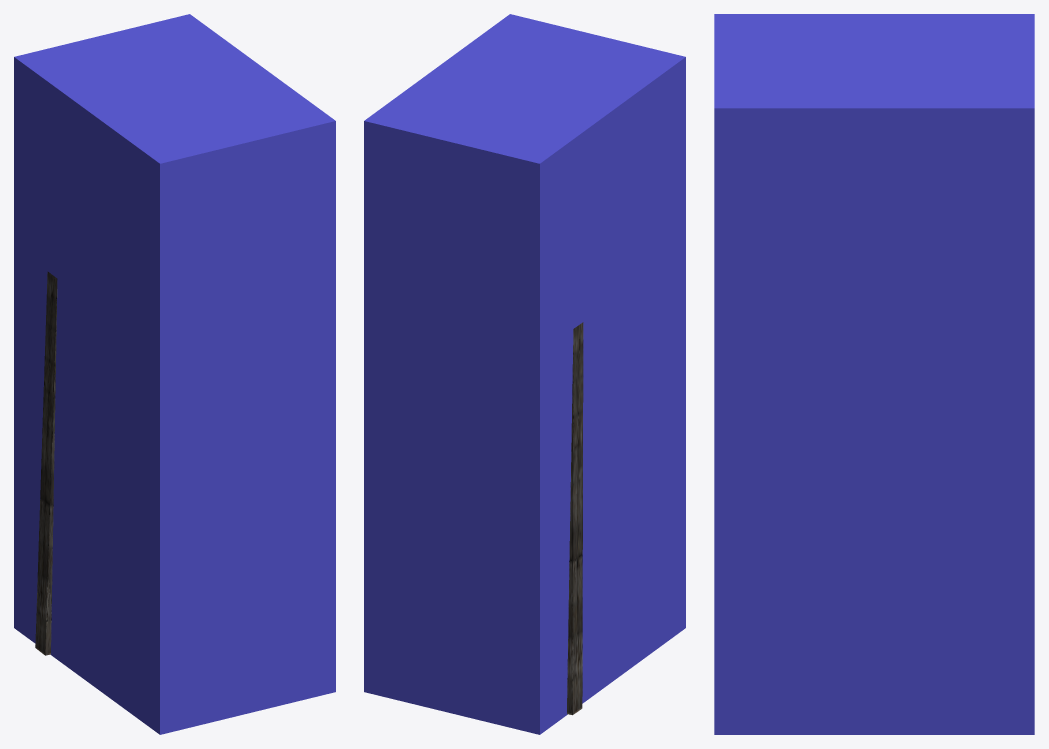
The model's file is pier_piece_1_unbroken.DAE.
The picture shows the model from 3 angles, left to right: view 1: azimuth 30°, elevation 25°; view 2: azimuth 150°, elevation 25°; view 3: azimuth 270°, elevation 25°; orthographic projection. The views are drawn at different scales.
Visible parts, largest first — view 1: bounds, colbox-17; view 2: bounds, colbox-17; view 3: bounds.
Boxes of the visible parts, bbox=[...] form: bounds: bbox=[14, 14, 335, 734]; colbox-17: bbox=[35, 271, 57, 655]; bounds: bbox=[364, 14, 685, 734]; colbox-17: bbox=[567, 322, 583, 715]; bounds: bbox=[714, 14, 1034, 734].
Bounding box in the file's own units: 5.28 × 7.37 × 15.89.
